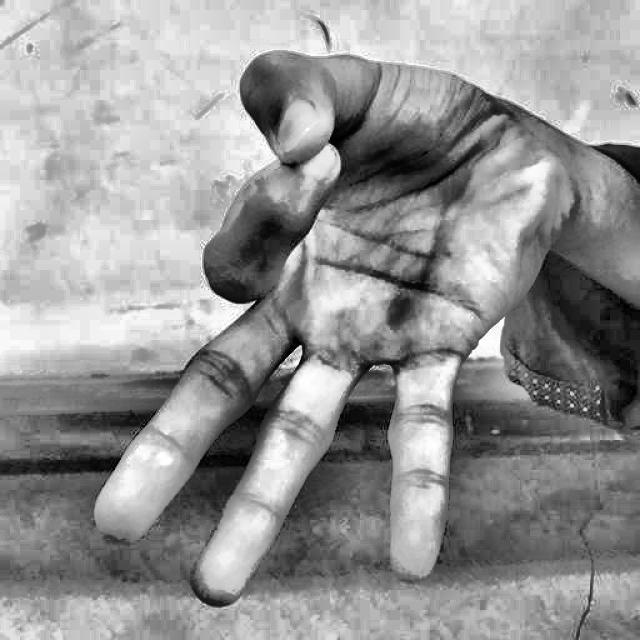Fa: (63, 36, 581, 619)
